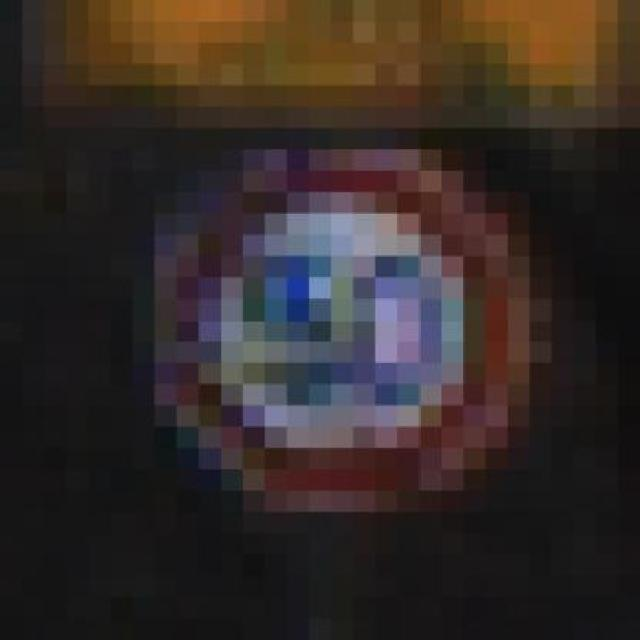forb_speed_over_50: (173, 154, 516, 492)
